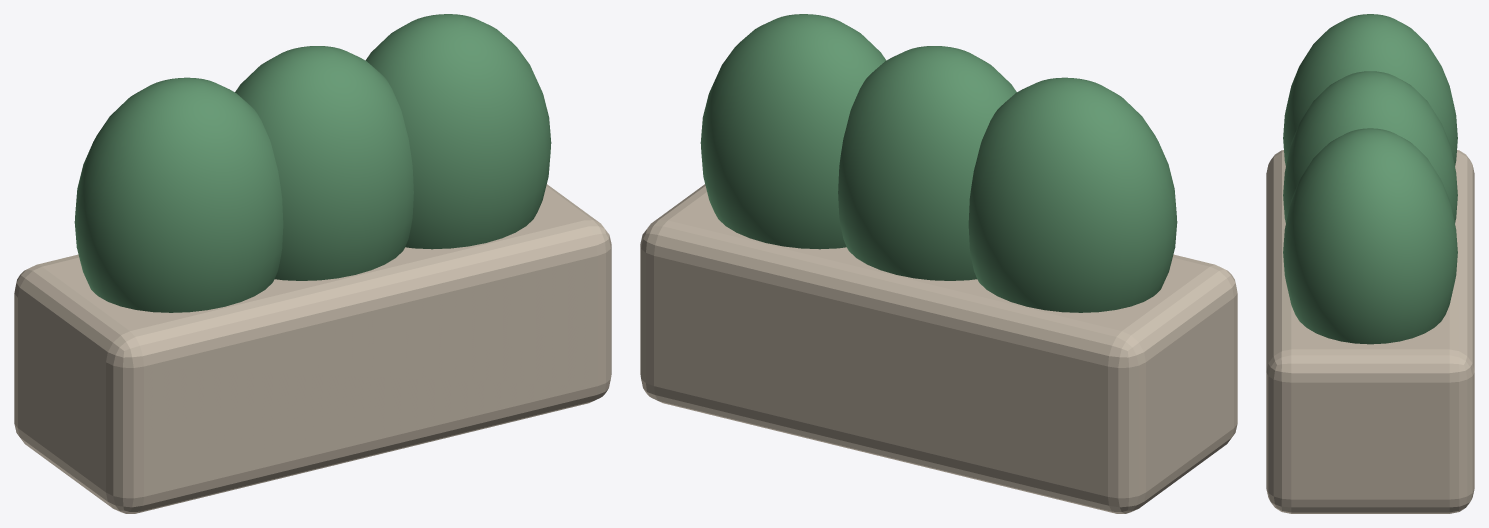
3 views of the same model, side by side, from view 1: azimuth 30°, elevation 25°; view 2: azimuth 150°, elevation 25°; view 3: azimuth 270°, elevation 25° (orthographic). The views are drawn at different scales.
Parts seen in each view (by area): view 1: LOD0_PLANTER_RECT_Pot, LOD0_PLANTER_RECT_Crown_01, LOD0_PLANTER_RECT_Crown_03, LOD0_PLANTER_RECT_Crown_02; view 2: LOD0_PLANTER_RECT_Pot, LOD0_PLANTER_RECT_Crown_01, LOD0_PLANTER_RECT_Crown_03, LOD0_PLANTER_RECT_Crown_02; view 3: LOD0_PLANTER_RECT_Pot, LOD0_PLANTER_RECT_Crown_03, LOD0_PLANTER_RECT_Crown_02, LOD0_PLANTER_RECT_Crown_01.
Part boxes in pixels (<box>): LOD0_PLANTER_RECT_Pot: <box>14,184,611,513</box>; LOD0_PLANTER_RECT_Crown_01: <box>74,77,283,312</box>; LOD0_PLANTER_RECT_Crown_03: <box>365,14,551,249</box>; LOD0_PLANTER_RECT_Crown_02: <box>235,46,413,280</box>; LOD0_PLANTER_RECT_Pot: <box>640,184,1237,513</box>; LOD0_PLANTER_RECT_Crown_01: <box>968,77,1177,312</box>; LOD0_PLANTER_RECT_Crown_03: <box>700,14,886,249</box>; LOD0_PLANTER_RECT_Crown_02: <box>838,46,1016,280</box>; LOD0_PLANTER_RECT_Pot: <box>1266,150,1474,513</box>; LOD0_PLANTER_RECT_Crown_03: <box>1283,128,1457,344</box>; LOD0_PLANTER_RECT_Crown_02: <box>1283,71,1457,222</box>; LOD0_PLANTER_RECT_Crown_01: <box>1283,14,1457,165</box>.
Size of what is drawn, in the model's own units: 2.5 by 1.77 by 1.
